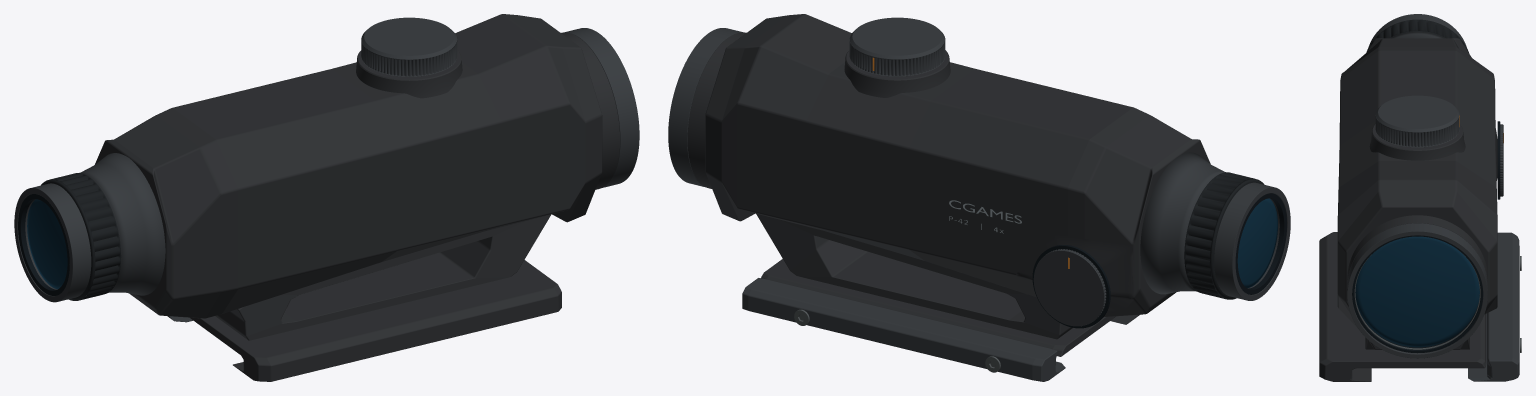
Rendered from P42_4x_Compact_A5_Rail.fbx.
3 renders of one model, left to right at view 1: azimuth 30°, elevation 25°; view 2: azimuth 150°, elevation 25°; view 3: azimuth 270°, elevation 25°, orthographic. The views are drawn at different scales.
Visible parts, largest first — view 1: 01 PRIMARY | faceted prism housing, 21 LOWER SHELL | thin bridge and fixed edge, 20 UPPER FOOT | open angular saddle, 07 REAR | short taper neck, 10 REAR | end rim, 14 TOP | cap stepped core, 09 REAR | integrated axial rubber grip, 02 FRONT | short protective lip, 12 REAR | visual glass, 03 FRONT | narrow second shoulder, 13 TOP | compact housing boss, 15 TOP | actual fine axial flutes (+2 smaller); view 2: 01 PRIMARY | faceted prism housing, 20 UPPER FOOT | open angular saddle, 22 SIDE STRIP | independent continuous bar, 07 REAR | short taper neck, 21 LOWER SHELL | thin bridge and fixed edge, 18 SIDE | circular cap, 10 REAR | end rim, 14 TOP | cap stepped core, 09 REAR | integrated axial rubber grip, 02 FRONT | short protective lip, 16 SIDE | shallow integral control root, 12 REAR | visual glass (+6 smaller); view 3: 01 PRIMARY | faceted prism housing, 06 FRONT | recessed curved visual coating, 21 LOWER SHELL | thin bridge and fixed edge, 22 SIDE STRIP | independent continuous bar, 02 FRONT | short protective lip, 14 TOP | cap stepped core, 13 TOP | compact housing boss, 04 FRONT | dark cylindrical well, 03 FRONT | narrow second shoulder, 15 TOP | actual fine axial flutes, 09 REAR | integrated axial rubber grip, 10 REAR | end rim (+5 smaller).
Part boxes in pixels (x1,y1,x2,y2): 01 PRIMARY | faceted prism housing: (95,14,602,318); 21 LOWER SHELL | thin bridge and fixed edge: (190,260,561,381); 20 UPPER FOOT | open angular saddle: (215,214,550,340); 07 REAR | short taper neck: (79,153,165,295); 10 REAR | end rim: (14,183,91,302); 14 TOP | cap stepped core: (361,17,457,76); 09 REAR | integrated axial rubber grip: (50,173,120,300); 02 FRONT | short protective lip: (563,28,639,187); 12 REAR | visual glass: (27,199,67,289); 03 FRONT | narrow second shoulder: (561,32,619,189); 13 TOP | compact housing boss: (356,50,462,98); 15 TOP | actual fine axial flutes: (361,38,457,76); 01 PRIMARY | faceted prism housing: (705,14,1210,316); 20 UPPER FOOT | open angular saddle: (756,213,1072,339); 22 SIDE STRIP | independent continuous bar: (742,278,1065,381); 07 REAR | short taper neck: (1140,152,1225,294); 21 LOWER SHELL | thin bridge and fixed edge: (761,259,1139,356); 18 SIDE | circular cap: (1033,250,1104,326); 10 REAR | end rim: (1214,182,1290,300); 14 TOP | cap stepped core: (850,17,944,76); 09 REAR | integrated axial rubber grip: (1185,172,1254,299); 02 FRONT | short protective lip: (668,28,742,187); 16 SIDE | shallow integral control root: (1016,233,1135,313); 12 REAR | visual glass: (1237,198,1277,288); 01 PRIMARY | faceted prism housing: (1337,38,1497,349); 06 FRONT | recessed curved visual coating: (1355,236,1479,347); 21 LOWER SHELL | thin bridge and fixed edge: (1319,232,1486,381); 22 SIDE STRIP | independent continuous bar: (1468,232,1519,381); 02 FRONT | short protective lip: (1347,223,1487,358); 14 TOP | cap stepped core: (1375,95,1459,147); 13 TOP | compact housing boss: (1369,124,1465,160); 04 FRONT | dark cylindrical well: (1352,235,1483,353); 03 FRONT | narrow second shoulder: (1347,215,1487,290); 15 TOP | actual fine axial flutes: (1375,115,1459,146); 09 REAR | integrated axial rubber grip: (1367,20,1468,51); 10 REAR | end rim: (1368,14,1466,46).
Bounding box in the file's own units: 16.02 × 7.15 × 5.77.
